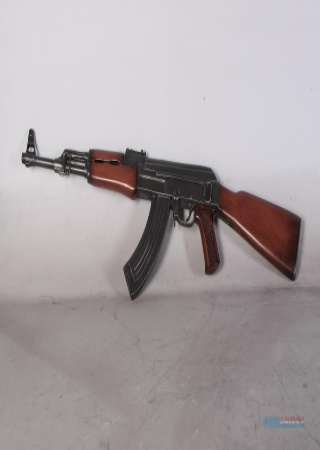rifle: (12, 118, 305, 302)
